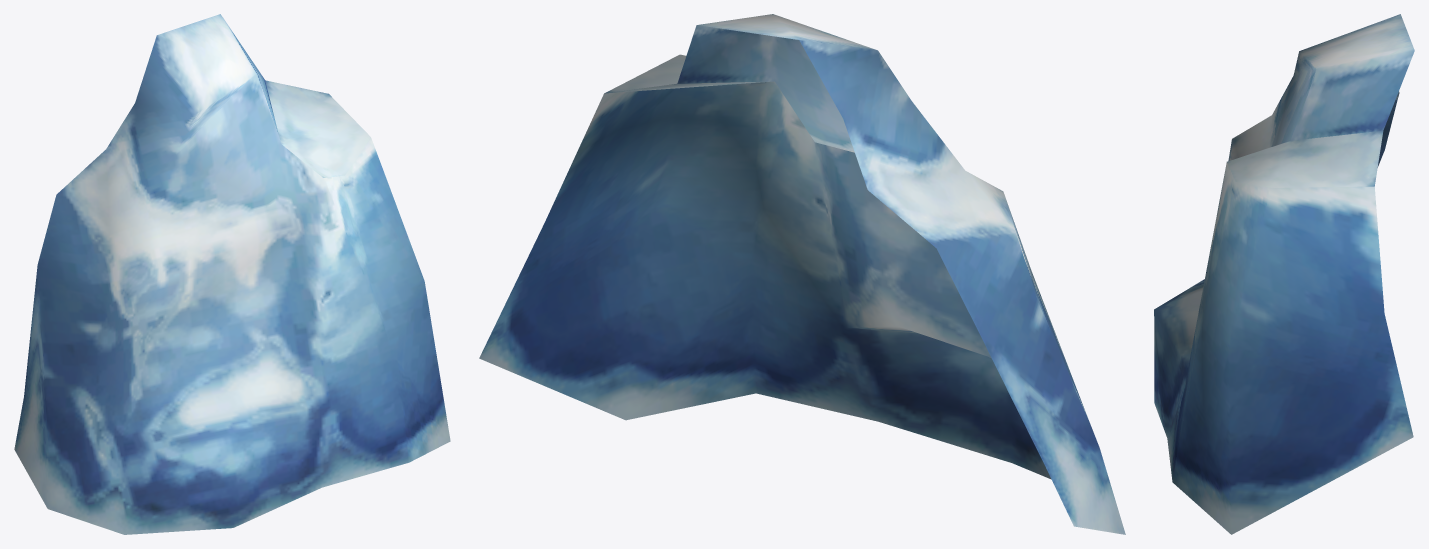
File: SM_stoneE_03.fbx
3 views of the same model, side by side, from view 1: azimuth 30°, elevation 25°; view 2: azimuth 150°, elevation 25°; view 3: azimuth 270°, elevation 25° (orthographic). The views are drawn at different scales.
Visible parts, largest first — view 1: SM_stoneE_03; view 2: SM_stoneE_03; view 3: SM_stoneE_03.
Boxes of the visible parts, <box> form: SM_stoneE_03: <box>14,14,450,534</box>; SM_stoneE_03: <box>479,14,1125,534</box>; SM_stoneE_03: <box>1154,14,1414,534</box>.
Bounding box in the file's own units: 2.52 × 2.33 × 1.33.
